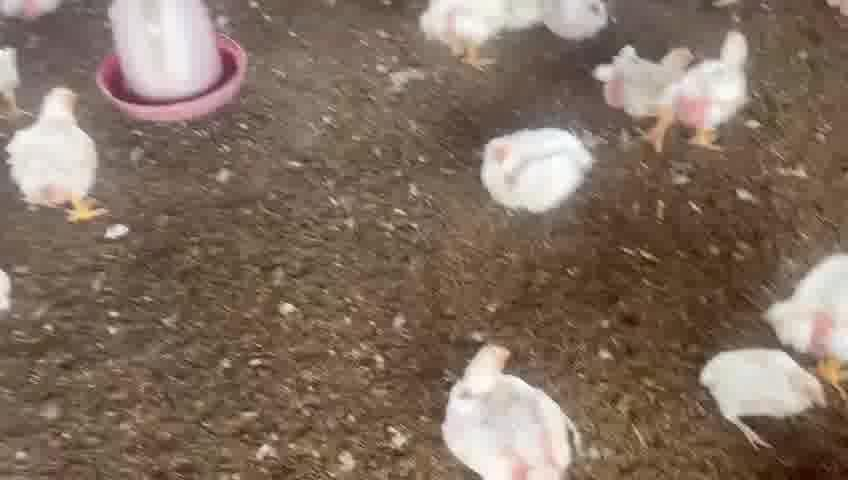AbNormal: (689, 330, 826, 455)
Normal: (429, 336, 581, 480), (6, 75, 116, 226), (471, 114, 599, 224), (764, 240, 848, 361), (676, 31, 763, 146), (600, 30, 701, 124)
